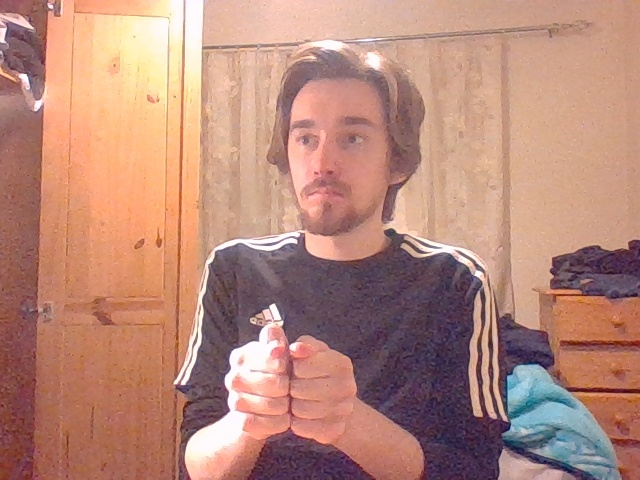brother: (224, 323, 357, 442)
